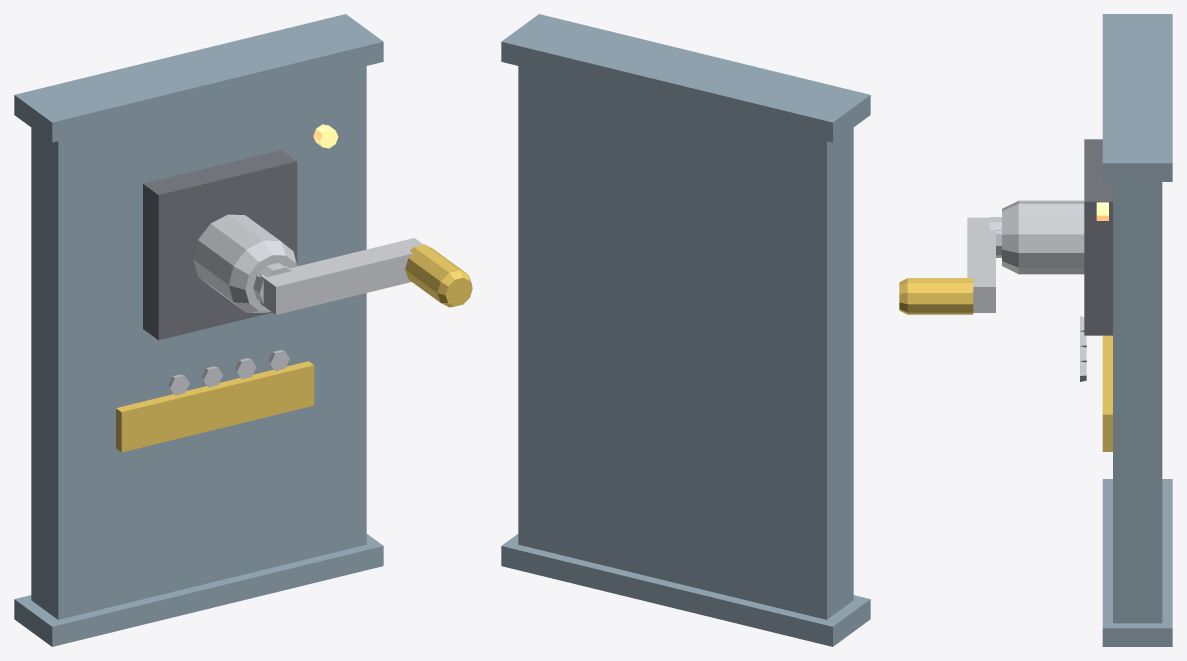
File: animated-mechanisms-kit-crank-handle-0d6d1bb7__24641.glb
3 renders of one model, left to right at view 1: azimuth 30°, elevation 25°; view 2: azimuth 150°, elevation 25°; view 3: azimuth 270°, elevation 25°, orthographic. The views are drawn at different scales.
Parts seen in each view (by area): view 1: crank-handle, crank/steel, crank/accent; view 2: crank-handle; view 3: crank-handle, crank/steel, crank/accent.
Boxes of the visible parts, bbox=[...] form: crank-handle: bbox=[14, 14, 383, 646]; crank/steel: bbox=[253, 238, 422, 314]; crank/accent: bbox=[405, 244, 472, 307]; crank-handle: bbox=[501, 14, 870, 646]; crank-handle: bbox=[1002, 14, 1172, 646]; crank/steel: bbox=[967, 217, 1001, 312]; crank/accent: bbox=[899, 278, 973, 314].
Bounding box in the file's own units: 0.8601 × 1.3 × 0.665.
